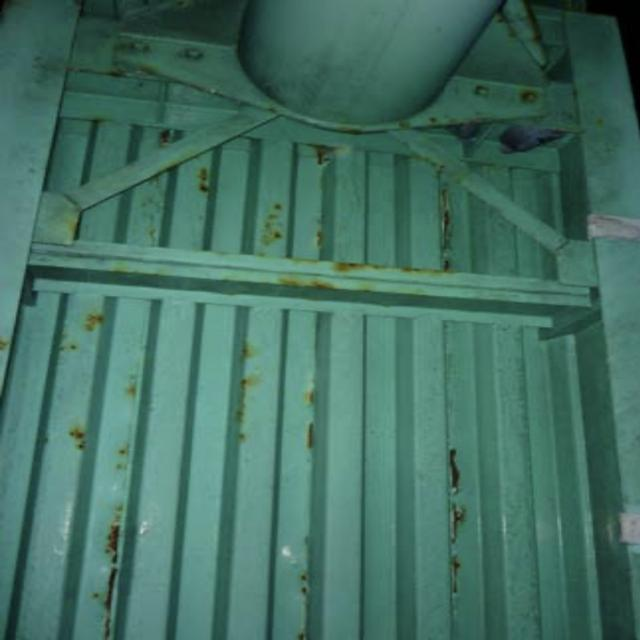corrosion: (63, 152, 473, 618)
